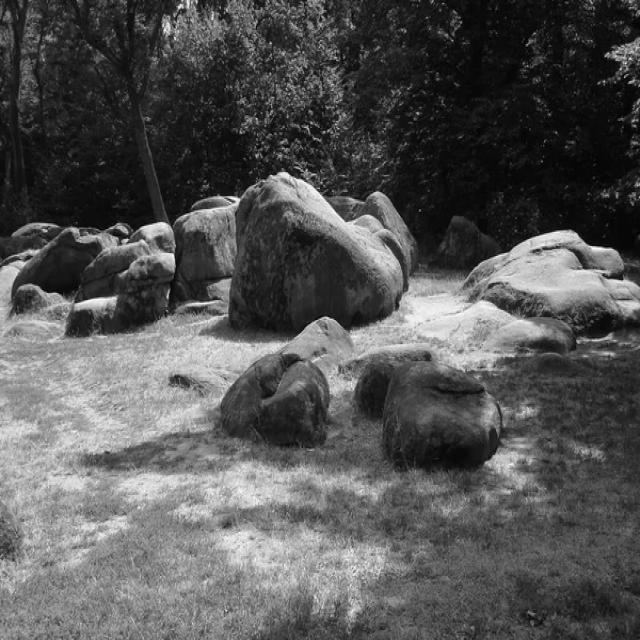Stone: (225, 190, 418, 322), (353, 341, 517, 473), (474, 215, 626, 352), (20, 231, 173, 327), (220, 344, 336, 455), (179, 202, 246, 273)
